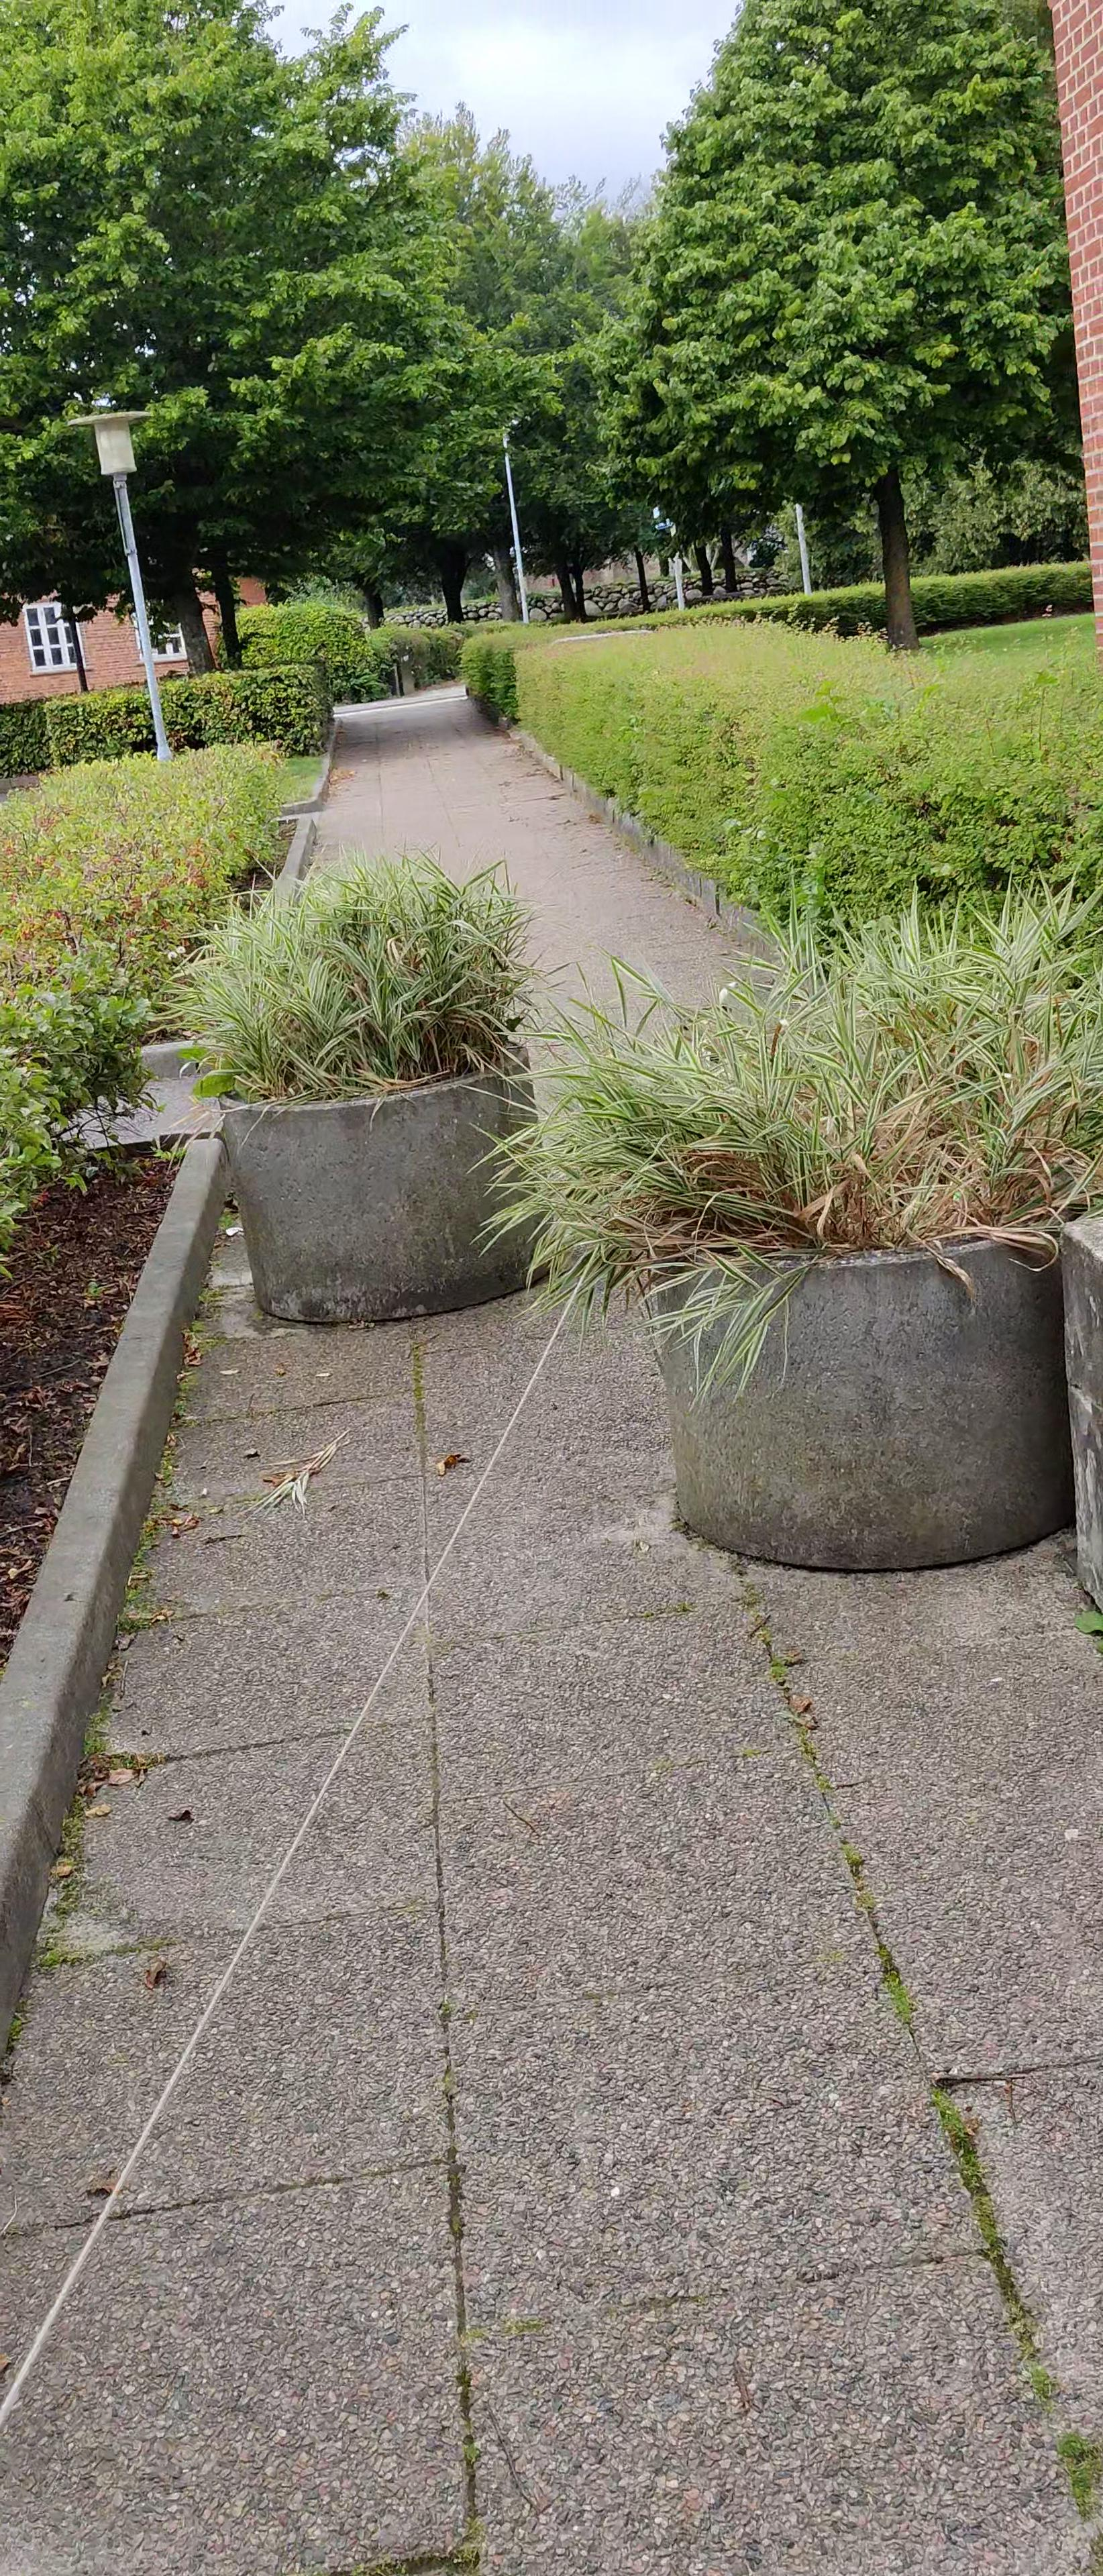Dog: (667, 974, 755, 1069)
